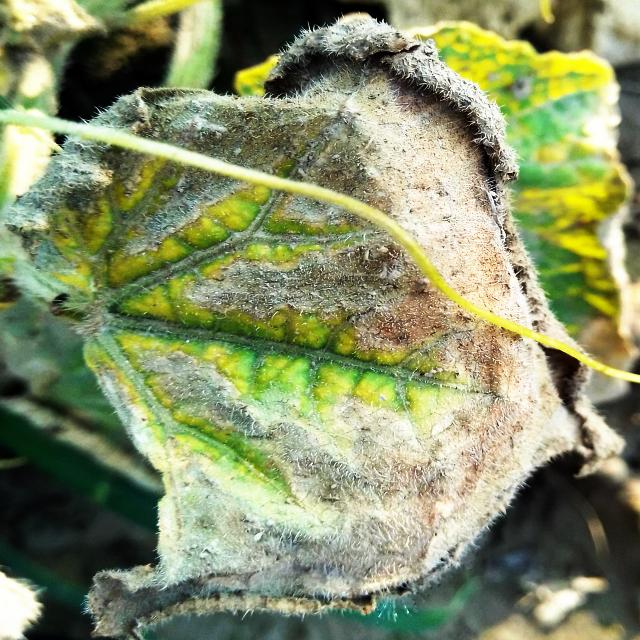Gummy-Stem-Blight: (2, 19, 624, 630)
